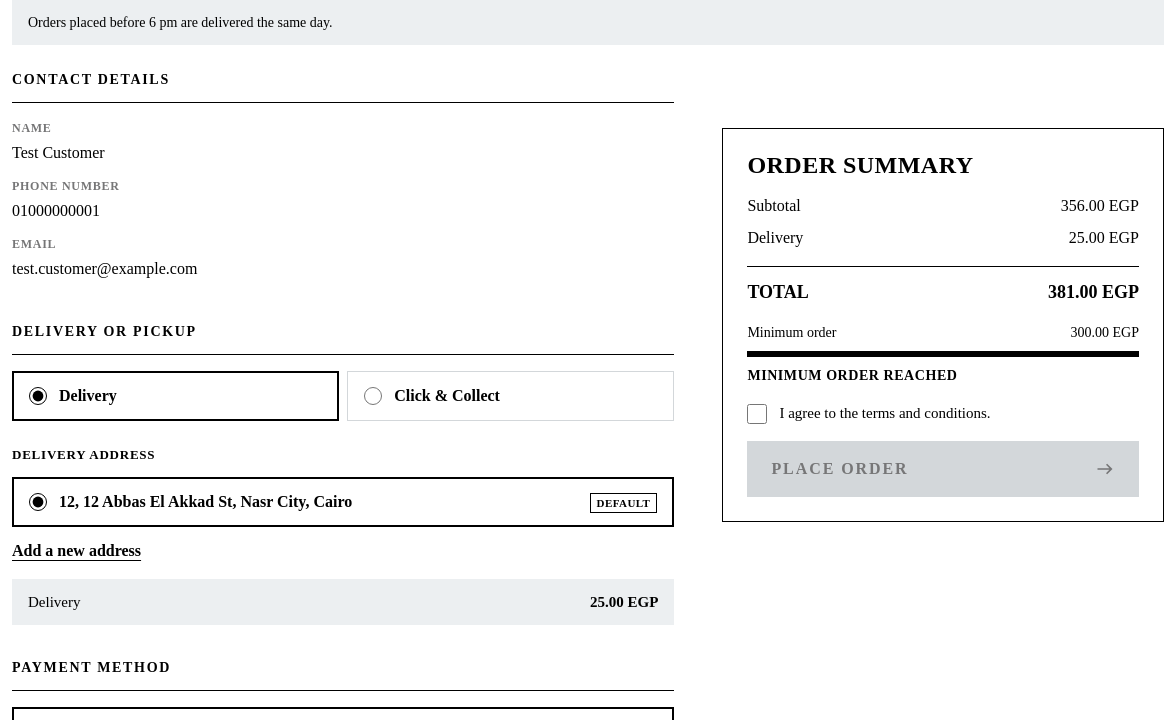
Test: CheckoutView: placing the order › shows the empty cart when the fresh checkout has no items left
Step 1. Click the checkbox with test id "checkout-terms" → x=757, y=414, box [747,404,767,424]
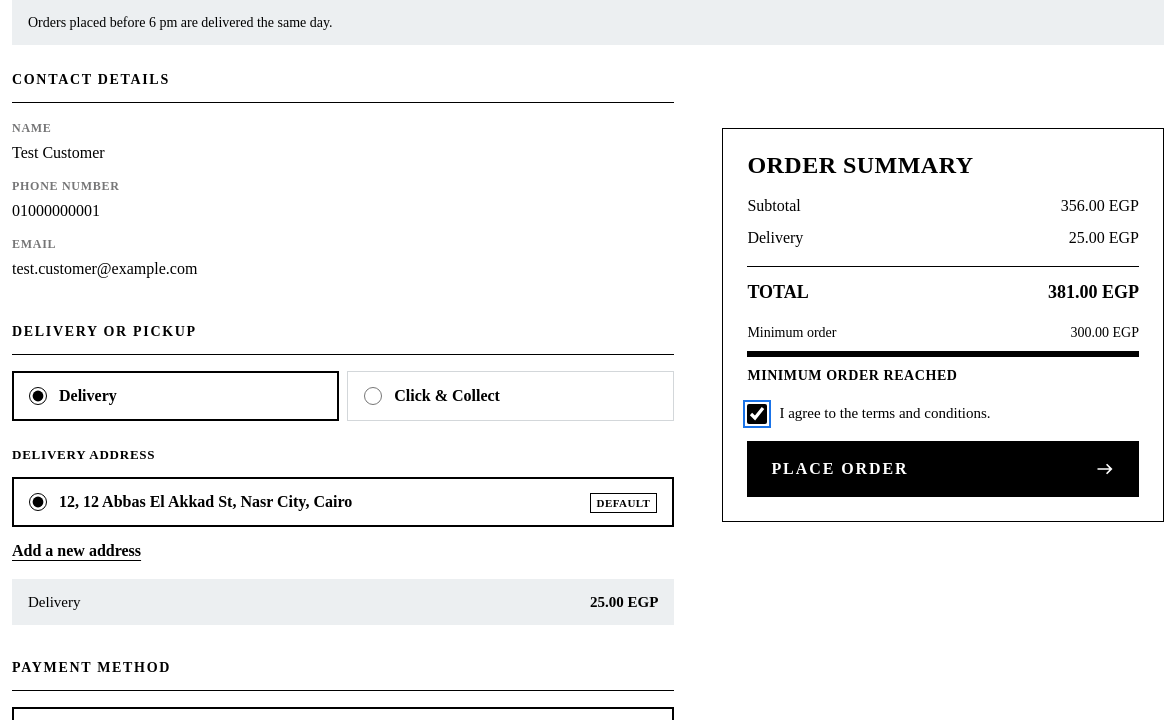
Step 2. Click the button with test id "place-order" → x=840, y=468, box [747,441,1139,497]
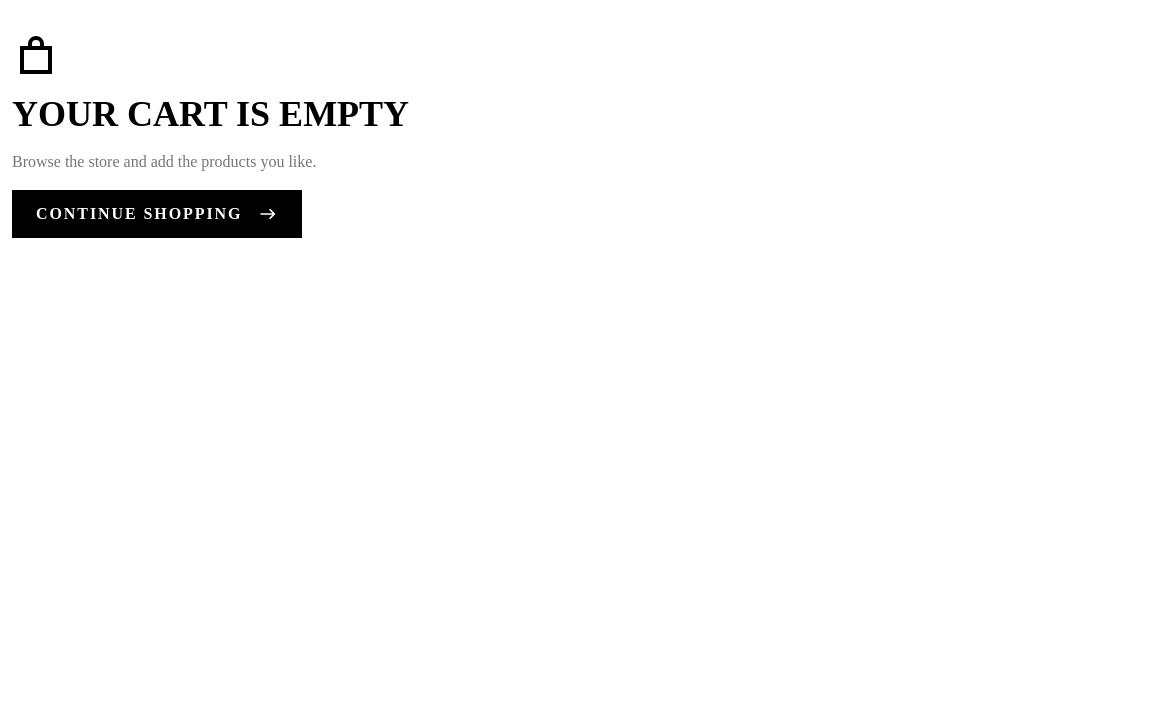
expect the element with test id "cart-empty" is shown: met, box [12,32,409,238]
expect the button with test id "place-order" is gone: met
